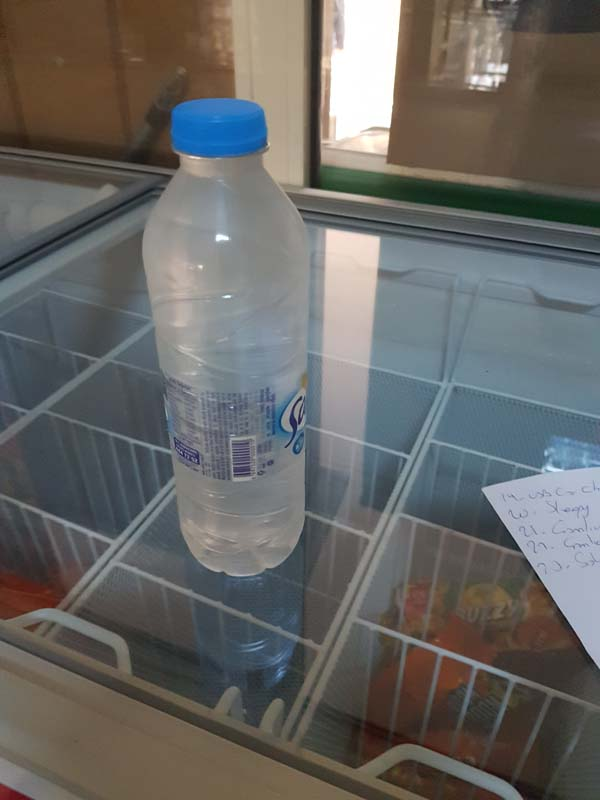saka500mlsu: (142, 94, 326, 580)
